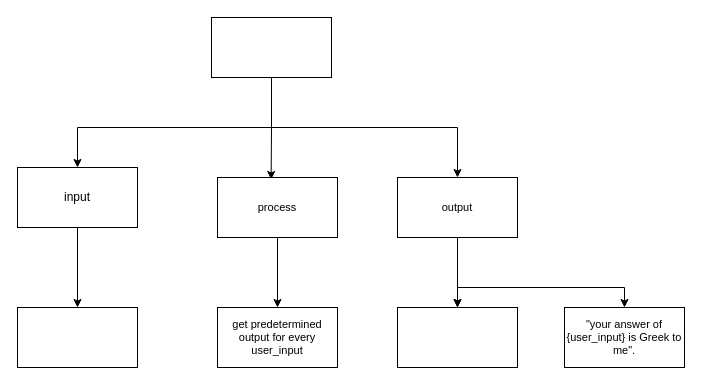
The diagram is 702 pixels wide and 385 high, and some of its shapes have lost their labels. Each missing label, with the centre of its shape:
get user_input for every decision: [77,337]
HELLO: [271,47]
print output: [457,337]
